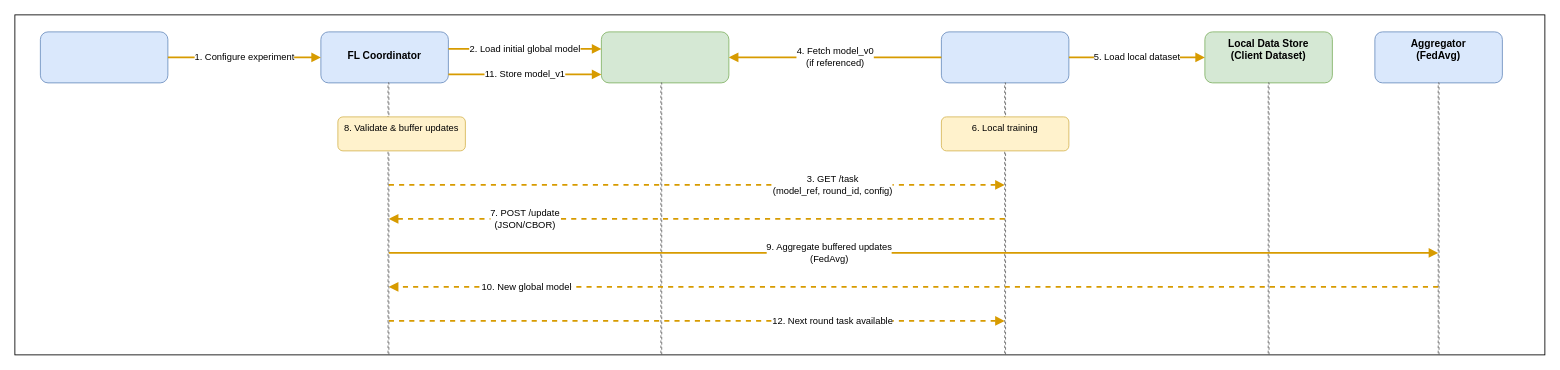
This 1560x370 diagram has some shape labels left out. Each missing label, with the box of its shape:
Client (Wasm / Wasmtime): (941, 31, 1069, 83)
Model Registry: (601, 31, 729, 83)
Orchestrator / Experiment Config: (40, 31, 168, 83)
